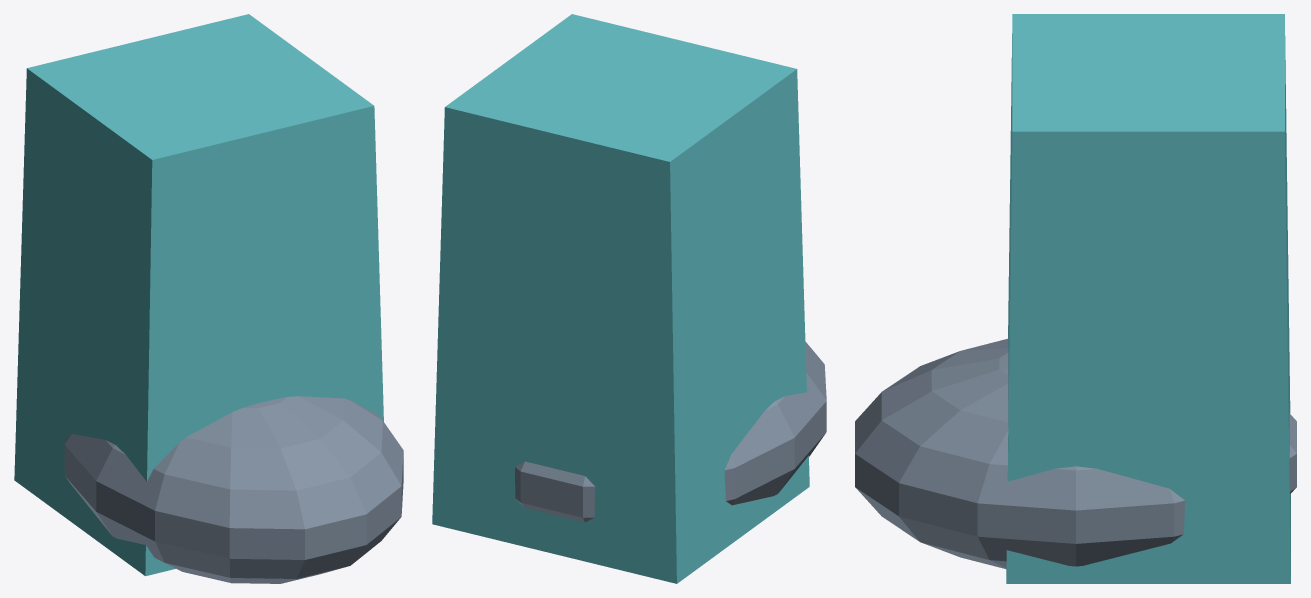
The model's file is LeftLeg.glb.
The picture shows the model from 3 angles, left to right: view 1: azimuth 30°, elevation 25°; view 2: azimuth 150°, elevation 25°; view 3: azimuth 270°, elevation 25°; orthographic projection. The views are drawn at different scales.
Parts seen in each view (by area): view 1: leg, toe; view 2: leg, toe; view 3: leg, toe.
Boxes of the visible parts, bbox=[...] form: leg: bbox=[14, 14, 383, 576]; toe: bbox=[64, 396, 403, 583]; leg: bbox=[432, 14, 809, 583]; toe: bbox=[515, 341, 826, 522]; leg: bbox=[1006, 14, 1290, 583]; toe: bbox=[855, 338, 1296, 568].
Bounding box in the file's own units: 0.8225 × 1.25 × 1.05.
